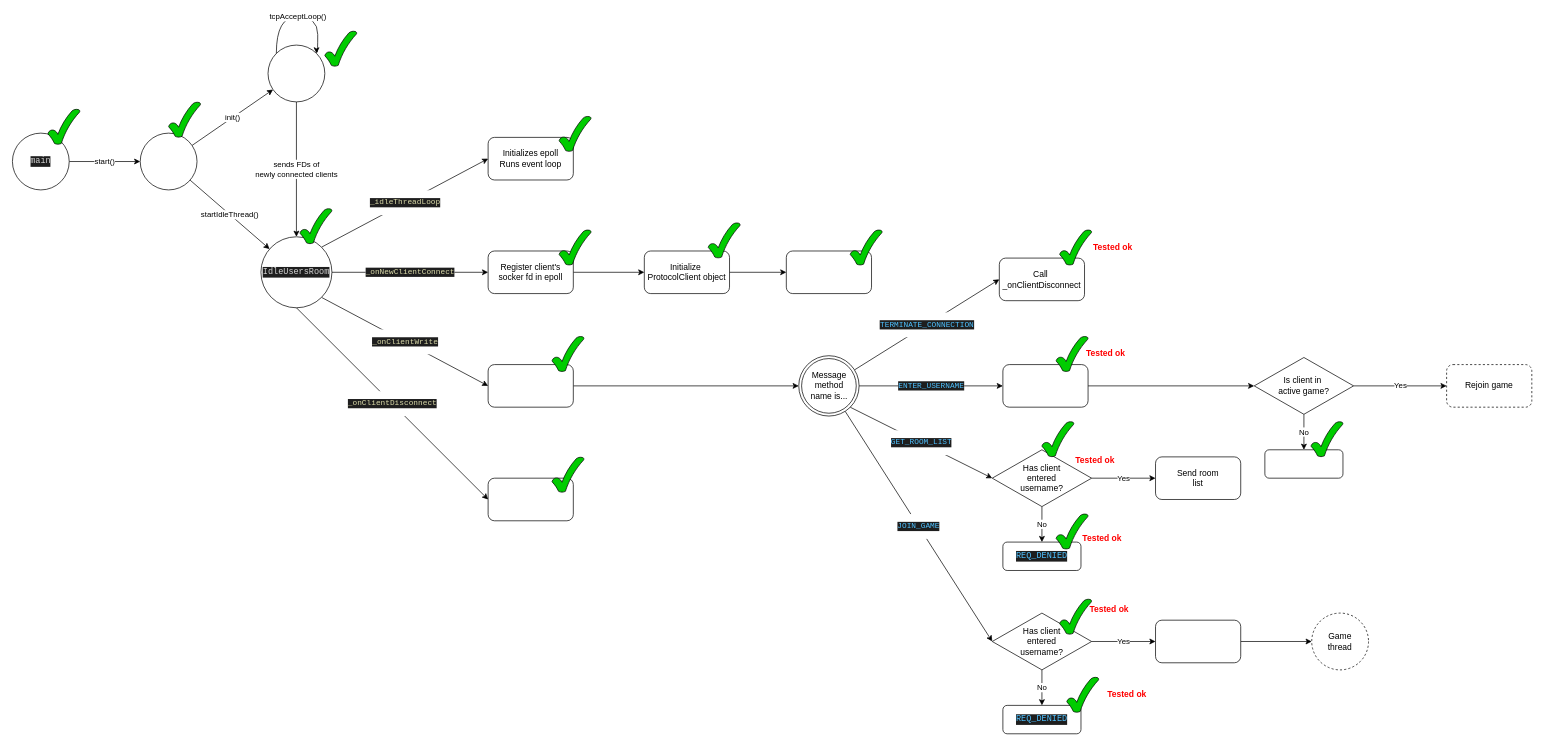
The diagram is 1544 pixels wide and 746 high, and some of its shapes have lost their labels. Here are the shapes that lost their labels. From the top down, the centre of each, then its label:
the point at 296,73: TcpGameServer
the point at 168,161: ServerController
the point at 829,272: Send CONNECTED_OK to client
the point at 530,385: Read client's message
the point at 1045,385: Save username into client's data structure
the point at 1303,463: REQ_ACCEPTED
the point at 530,499: Delete ProtocolClient object
the point at 1198,641: Pass client FD to game thread
